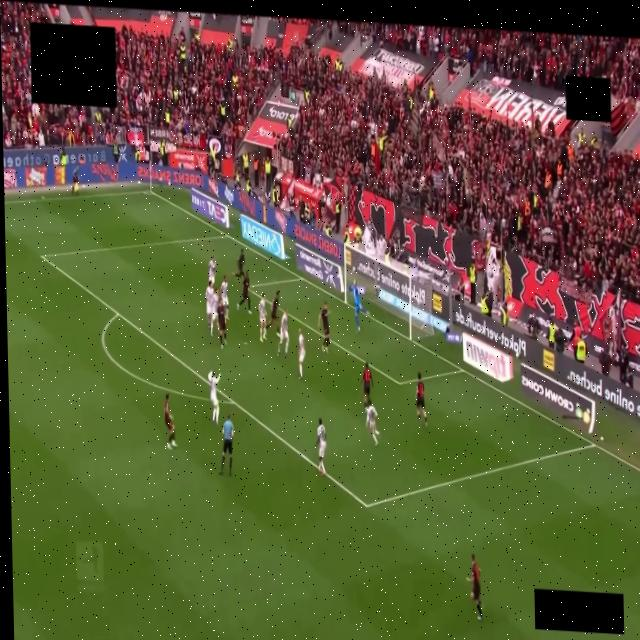ball: (352, 266, 356, 273)
player: (349, 282, 368, 332), (467, 554, 481, 620), (164, 394, 176, 449), (236, 271, 251, 313), (315, 418, 326, 475), (415, 373, 426, 426), (318, 302, 329, 352), (208, 371, 218, 424), (366, 403, 378, 445), (362, 363, 372, 412), (277, 311, 288, 355), (266, 291, 278, 328), (205, 281, 213, 335), (257, 294, 265, 342), (220, 275, 228, 320), (217, 303, 225, 348), (233, 249, 244, 277), (298, 329, 304, 378), (212, 290, 218, 331), (208, 257, 215, 285)
referee: (219, 414, 232, 475)
